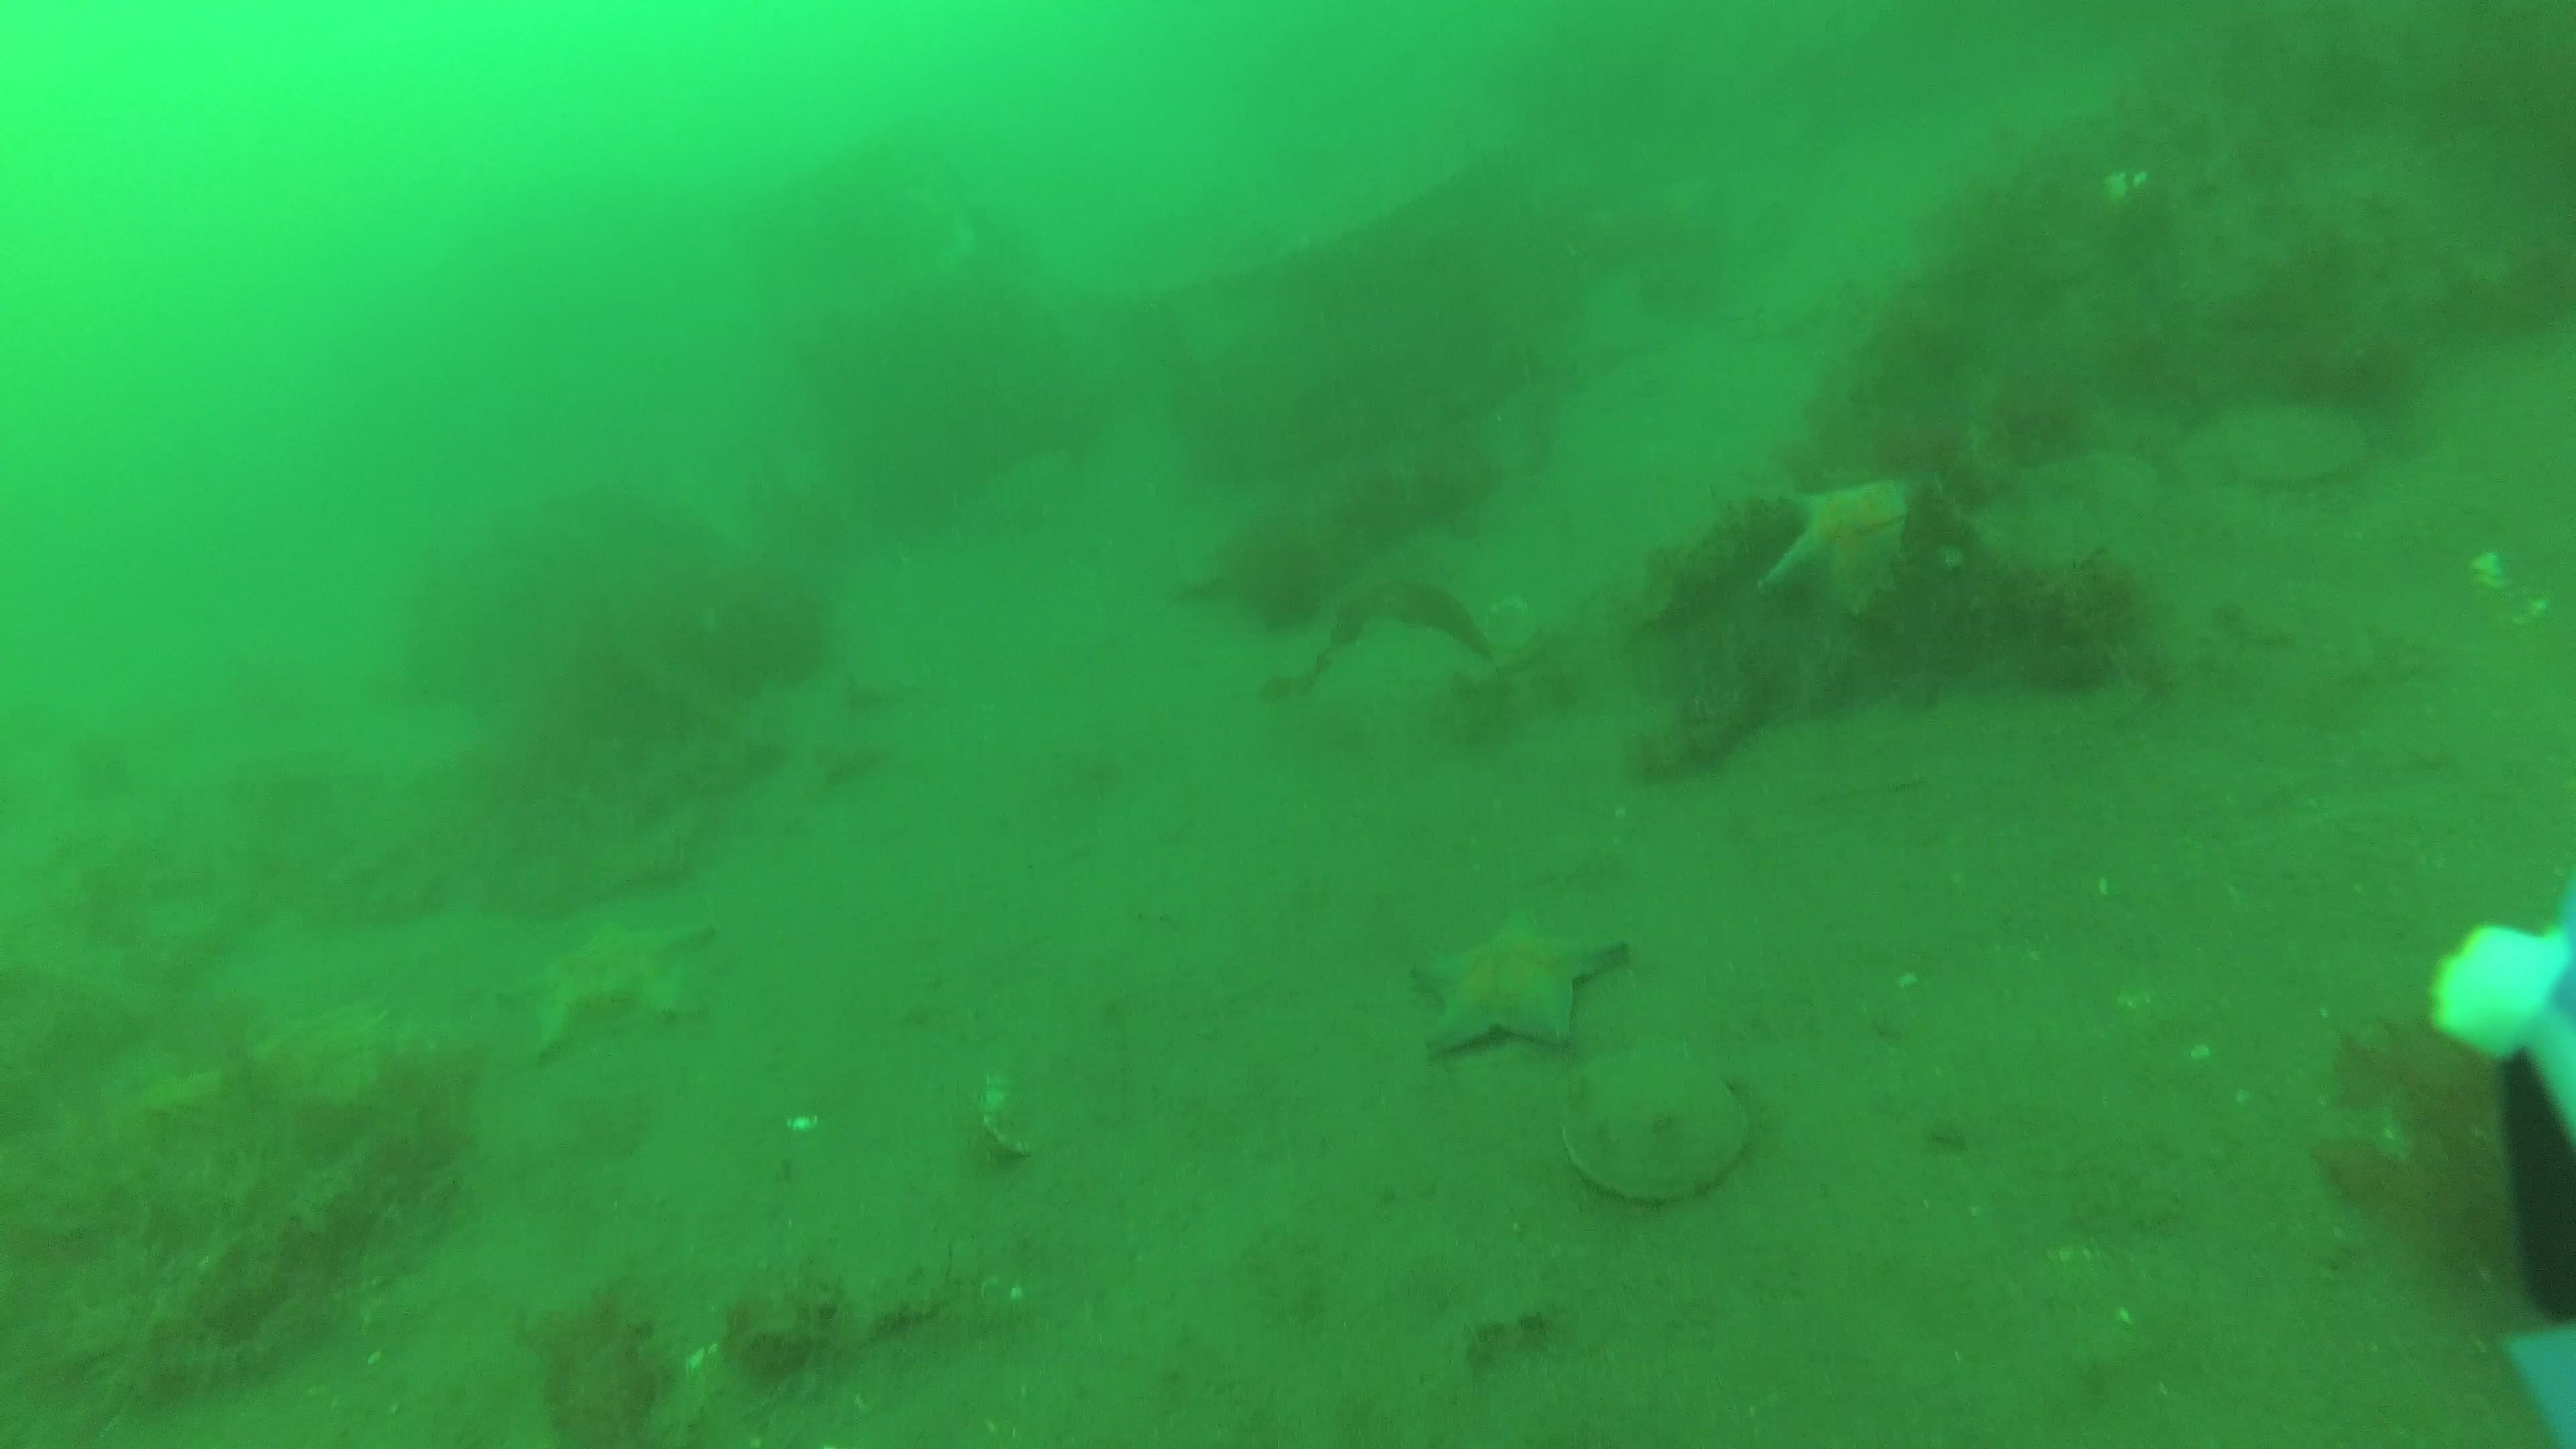scallop: (1562, 1060, 1752, 1207)
starfish: (1421, 911, 1629, 1062), (504, 924, 697, 1062), (1762, 485, 1916, 616)
